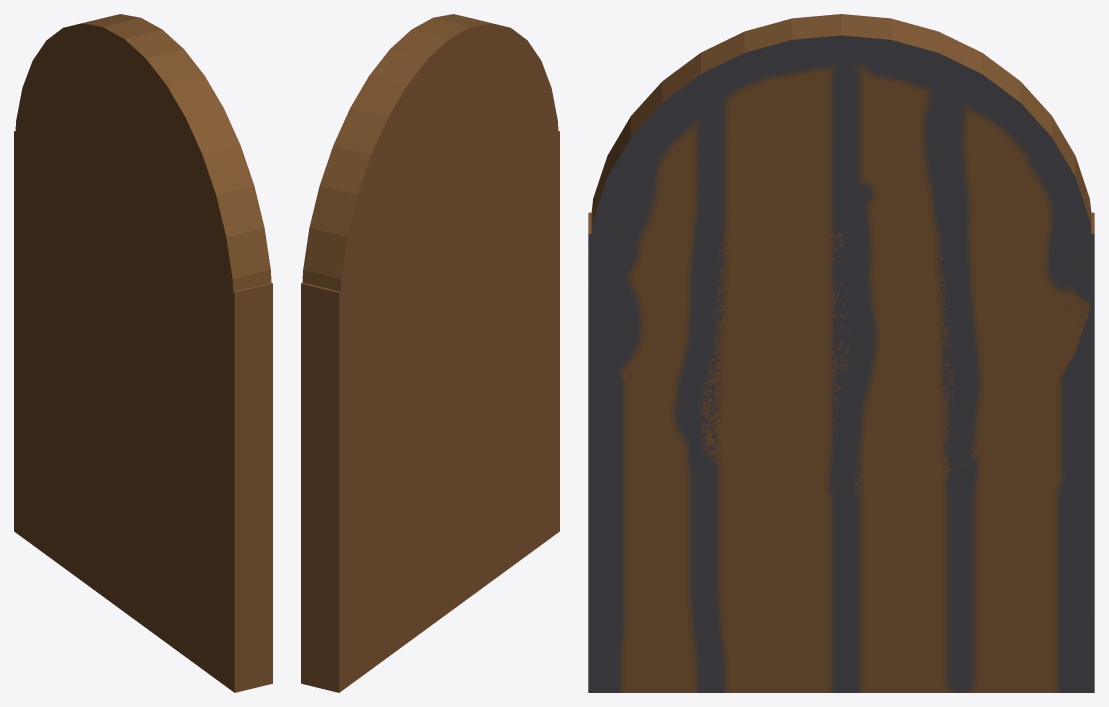
File: Gate.glb
3 views of the same model, side by side, from view 1: azimuth 30°, elevation 25°; view 2: azimuth 150°, elevation 25°; view 3: azimuth 270°, elevation 25° (orthographic). The views are drawn at different scales.
Visible parts, largest first — view 1: Cylinder; view 2: Cylinder; view 3: Cylinder.
Part boxes in pixels (x1=…): Cylinder: x1=14, y1=14, x2=272, y2=692; Cylinder: x1=301, y1=14, x2=559, y2=692; Cylinder: x1=588, y1=14, x2=1094, y2=692.
Bounding box in the file's own units: 0.2 × 2.86 × 2.
1 material, 1 textured.
